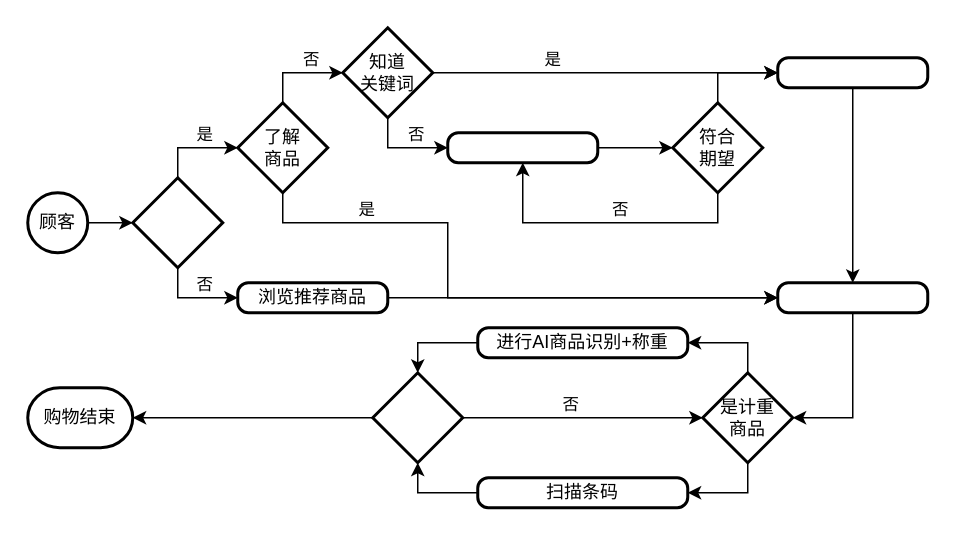
The diagram is 954 pixels wide and 534 high, and some of its shapes have lost their labels. Here are the shapes that lost their labels. From the top down, the centre of each, then its label:
At [852,72]: "进行模糊检索".
At [522,147]: "询问AI导购".
At [177,222]: "有明确 目标".
At [852,297]: "到店选购".
At [417,417]: "结算 完成".
